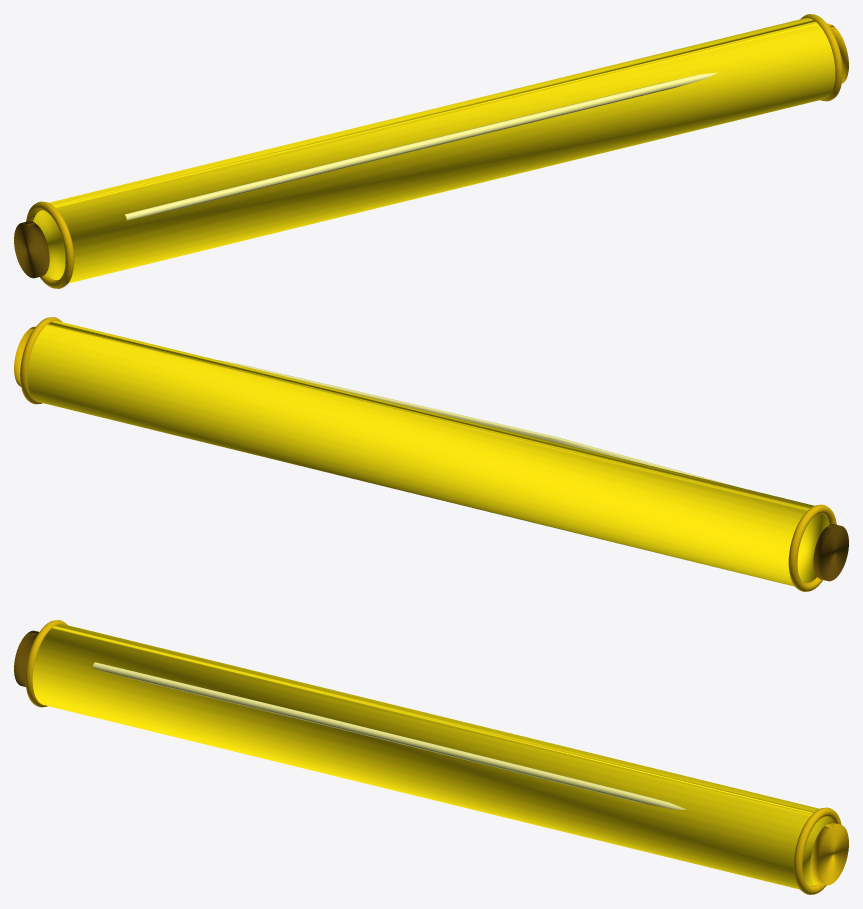
Rendered from Staffelstab_3D.glb.
The picture shows the model from 3 angles, top to bottom: view 1: azimuth 30°, elevation 25°; view 2: azimuth 150°, elevation 25°; view 3: azimuth 330°, elevation 25°; orthographic projection.
Parts seen in each view (by area): view 1: Staffelstab_3D__web_glossy_yellow_relay_baton_plastic_body, Staffelstab_3D__web_bright_elongated_highlight_on_relay_bato, Staffelstab_3D__web_darker_yellow_relay_baton_end_rim, Staffelstab_3D__web_dark_hollow_interior_of_relay_baton; view 2: Staffelstab_3D__web_glossy_yellow_relay_baton_plastic_body, Staffelstab_3D__web_darker_yellow_relay_baton_end_rim, Staffelstab_3D__web_bright_elongated_highlight_on_relay_bato, Staffelstab_3D__web_dark_hollow_interior_of_relay_baton; view 3: Staffelstab_3D__web_glossy_yellow_relay_baton_plastic_body, Staffelstab_3D__web_bright_elongated_highlight_on_relay_bato, Staffelstab_3D__web_darker_yellow_relay_baton_end_rim, Staffelstab_3D__web_dark_hollow_interior_of_relay_baton.
Boxes of the visible parts, <box> form: Staffelstab_3D__web_glossy_yellow_relay_baton_plastic_body: <box>33,18,835,283</box>; Staffelstab_3D__web_bright_elongated_highlight_on_relay_bato: <box>125,72,717,220</box>; Staffelstab_3D__web_darker_yellow_relay_baton_end_rim: <box>26,14,848,288</box>; Staffelstab_3D__web_dark_hollow_interior_of_relay_baton: <box>14,221,49,278</box>; Staffelstab_3D__web_glossy_yellow_relay_baton_plastic_body: <box>27,321,829,586</box>; Staffelstab_3D__web_darker_yellow_relay_baton_end_rim: <box>14,317,836,591</box>; Staffelstab_3D__web_bright_elongated_highlight_on_relay_bato: <box>219,360,734,486</box>; Staffelstab_3D__web_dark_hollow_interior_of_relay_baton: <box>813,524,848,581</box>; Staffelstab_3D__web_glossy_yellow_relay_baton_plastic_body: <box>32,624,833,889</box>; Staffelstab_3D__web_bright_elongated_highlight_on_relay_bato: <box>93,662,686,809</box>; Staffelstab_3D__web_darker_yellow_relay_baton_end_rim: <box>25,620,848,894</box>; Staffelstab_3D__web_dark_hollow_interior_of_relay_baton: <box>14,630,38,686</box>.
Bounding box in the file's own units: 1.34 × 0.129 × 0.129.
